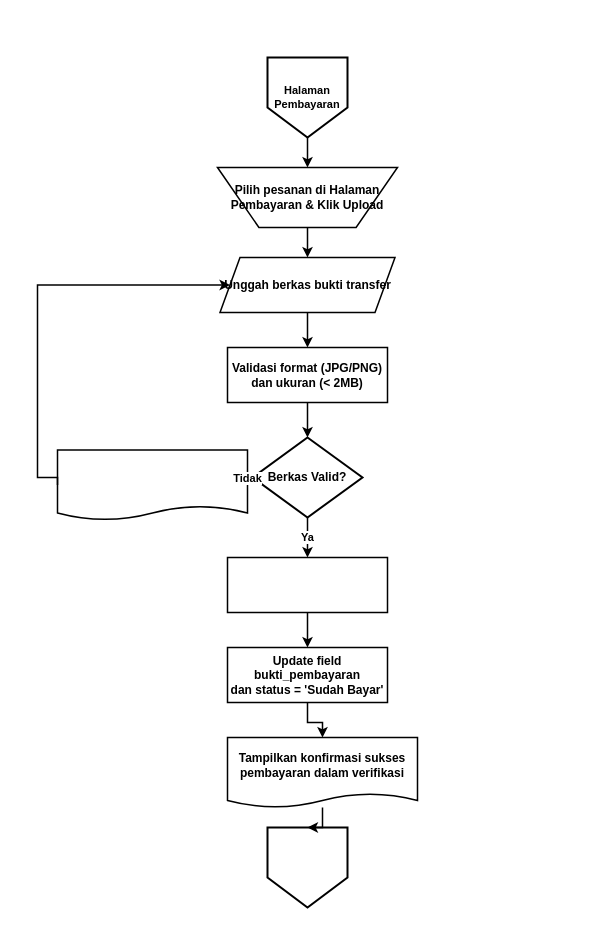
Image size: 614x925. Some labels were removed from this diagram. Each missing label, with the centre of its shape:
"Halaman Riwayat Pesanan" belongs at [307,867].
"Simpan berkas gambar ke folder assets/uploads/" belongs at [307,584].
"Tampilkan error berkas tidak valid" belongs at [152,484].
